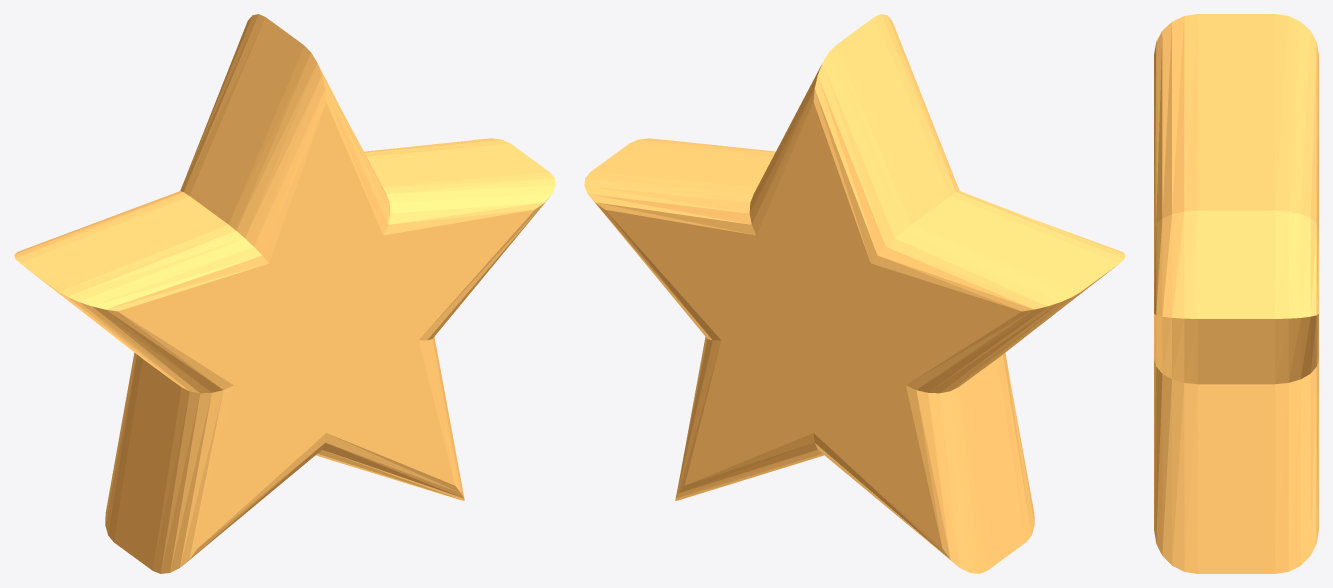
Rendered from wish-star.glb.
3 renders of one model, left to right at view 1: azimuth 30°, elevation 25°; view 2: azimuth 150°, elevation 25°; view 3: azimuth 270°, elevation 25°, orthographic.
Parts seen in each view (by area): view 1: WishStar; view 2: WishStar; view 3: WishStar.
Part boxes in pixels (x1=…): WishStar: x1=14, y1=14, x2=555, y2=573; WishStar: x1=584, y1=14, x2=1125, y2=573; WishStar: x1=1154, y1=14, x2=1318, y2=573.
Bounding box in the file's own units: 1.16 × 1.11 × 0.34.
